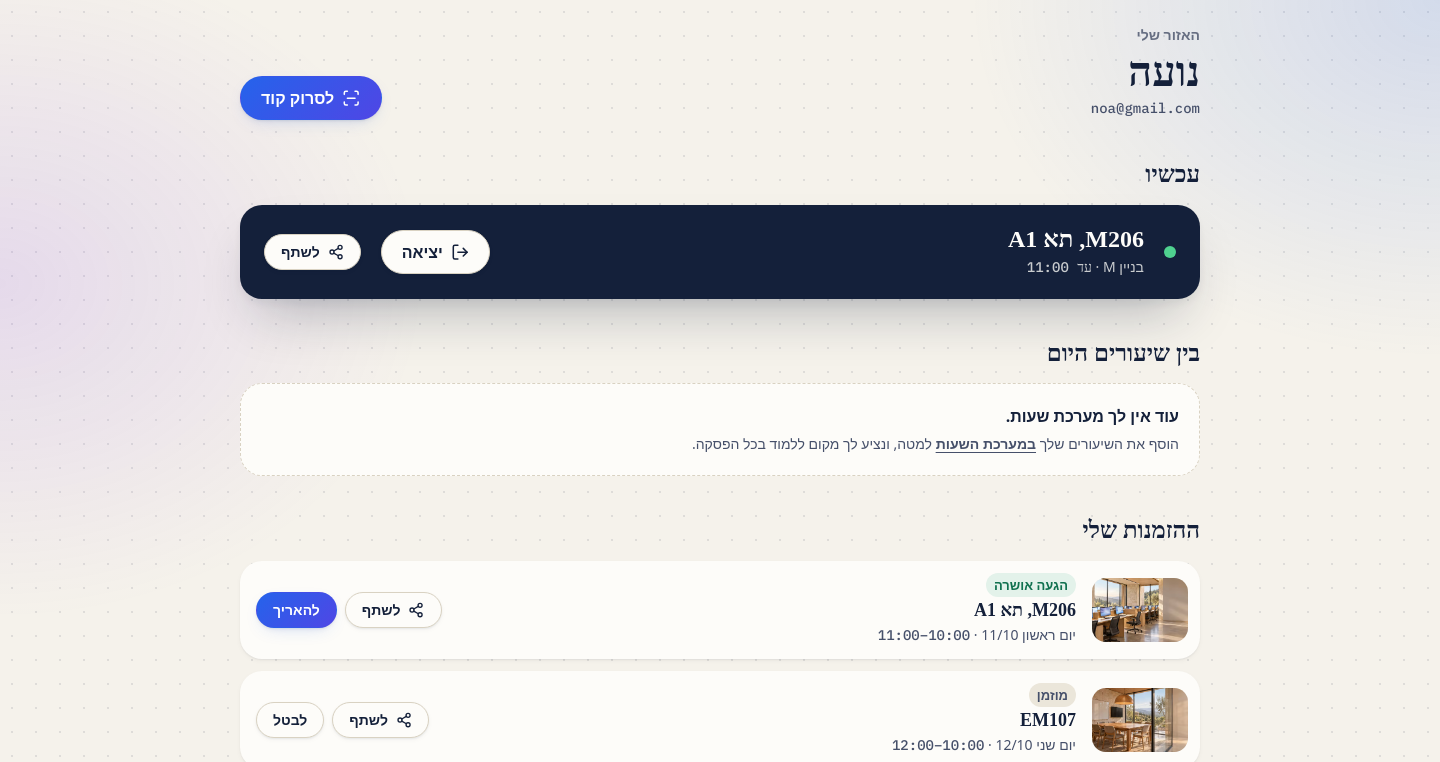
Test: MyPage › only a confirmed booking can be extended, and no free time is said so
Click the button "להאריך": (296, 610) [256,592,337,628]
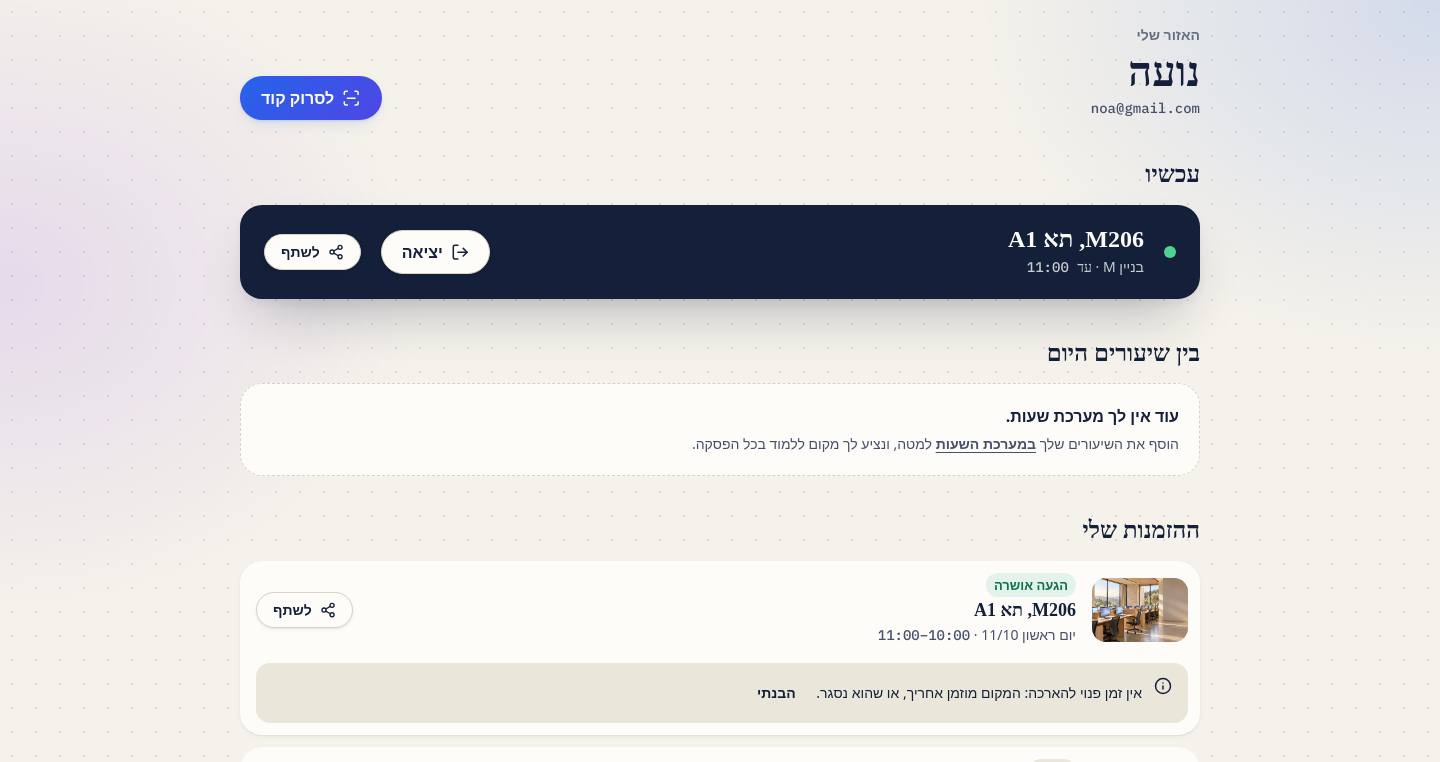
Check: the text "אין זמן פנוי להארכה: המקום מוזמן אחריך, או שהוא נסגר. הבנתי" is shown, box [740,675,1142,711]
